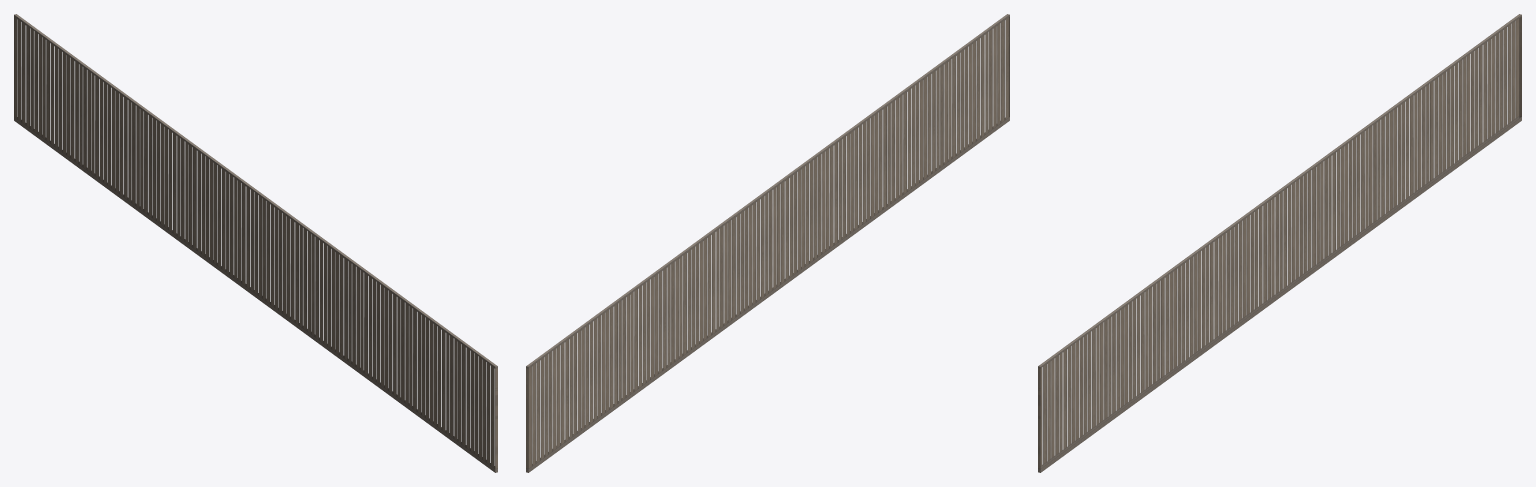
File: fence.gltf
The picture shows the model from 3 angles, left to right: view 1: azimuth 30°, elevation 25°; view 2: azimuth 150°, elevation 25°; view 3: azimuth 330°, elevation 25°; orthographic projection.
Visible parts, largest first — view 1: Cube.020; view 2: Cube.020; view 3: Cube.020.
Boxes of the visible parts, bbox=[...] form: Cube.020: bbox=[14, 14, 497, 472]; Cube.020: bbox=[526, 14, 1009, 472]; Cube.020: bbox=[1038, 14, 1521, 472].
Bounding box in the file's own units: 0.0759 × 2.97 × 24.42.
1 material, 1 textured.
